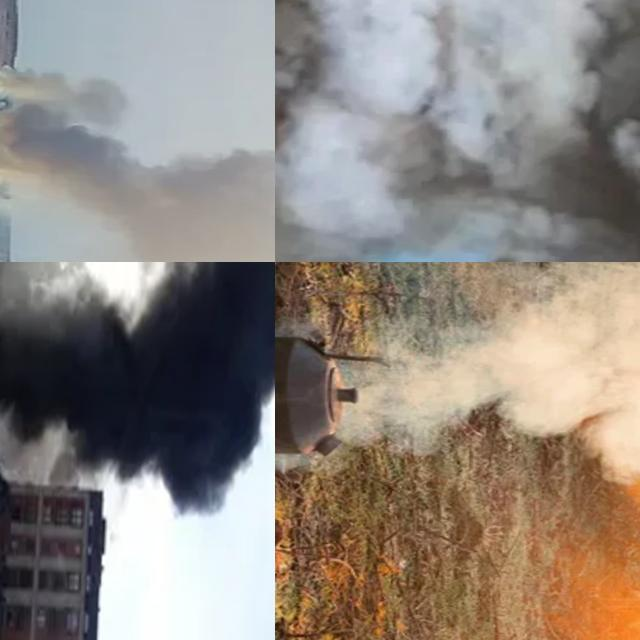smoke: (275, 0, 640, 262), (0, 262, 275, 524), (348, 262, 640, 489), (0, 126, 275, 262), (0, 62, 130, 129)
